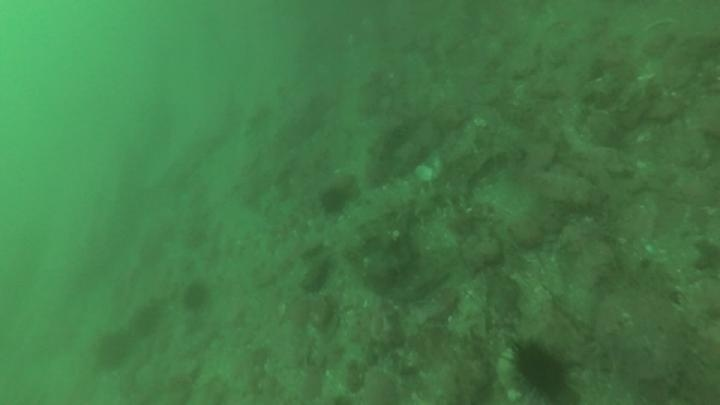echinus: (506, 337, 576, 402), (92, 328, 135, 372), (129, 299, 166, 339), (180, 279, 213, 314), (317, 185, 352, 217)
holothurian: (386, 181, 467, 222)
